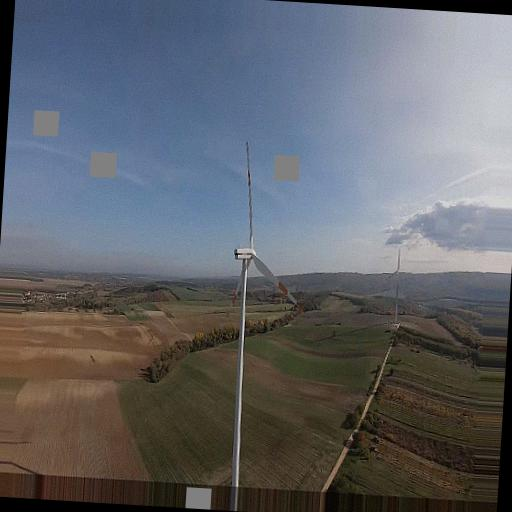wind turbine: (233, 140, 304, 486)
